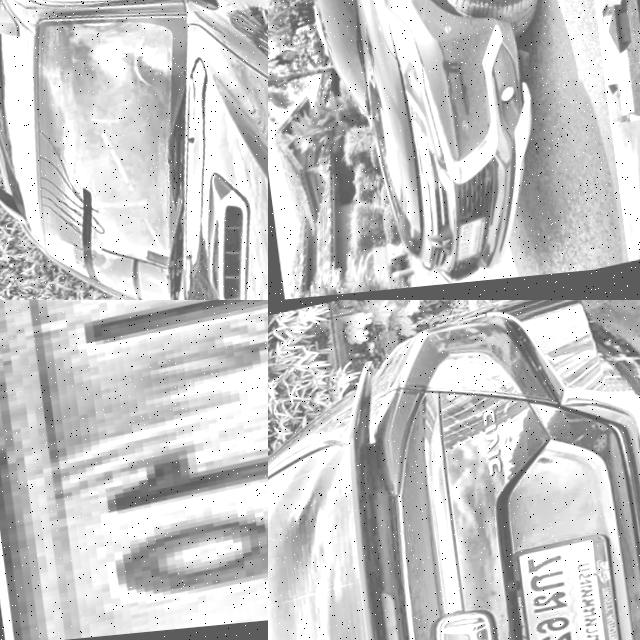license-plate: (0, 300, 268, 640), (503, 535, 628, 640), (447, 214, 491, 274)
